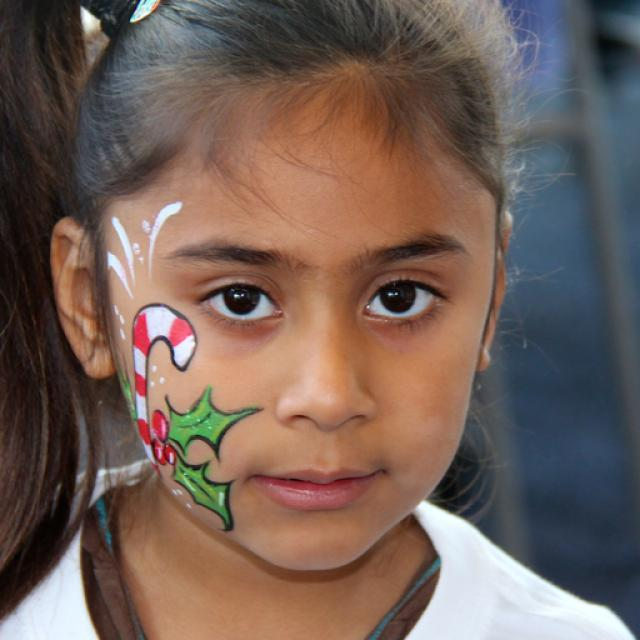neutral: (105, 58, 500, 576)
